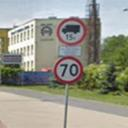speed_limit_70: (54, 56, 84, 86)
